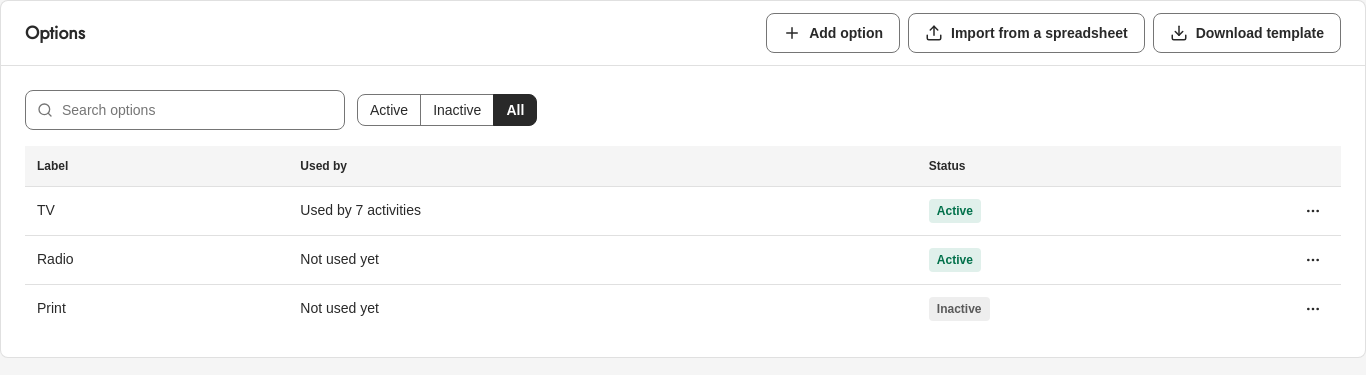
Test: OptionsCard (FR-018, FR-020, SC-007) › filters by status and clears the filters when nothing matches
Expected: the column heading "TV" is shown, [25,186,288,235]
Click the button "Inactive": x=457, y=110 [420,94,494,126]
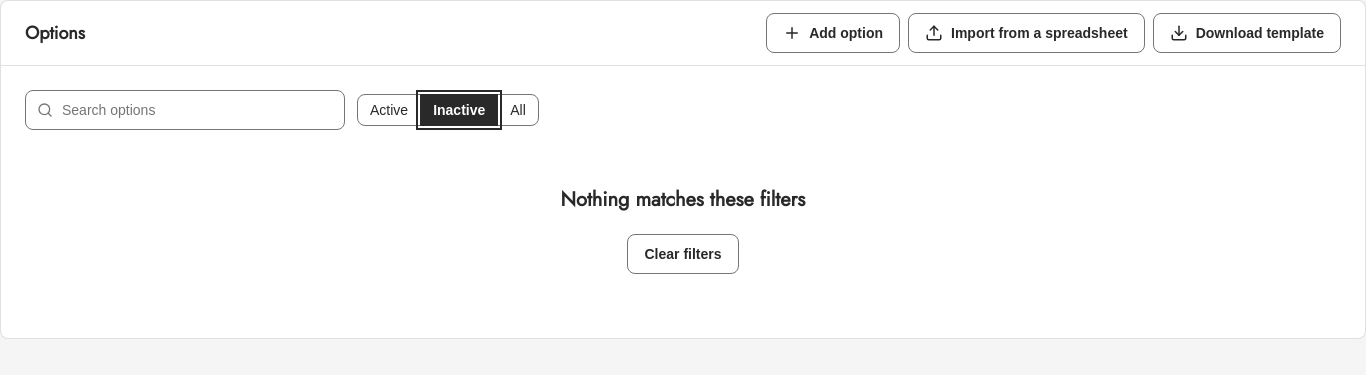
Click the button "Clear filters": x=683, y=254 [628,234,738,274]
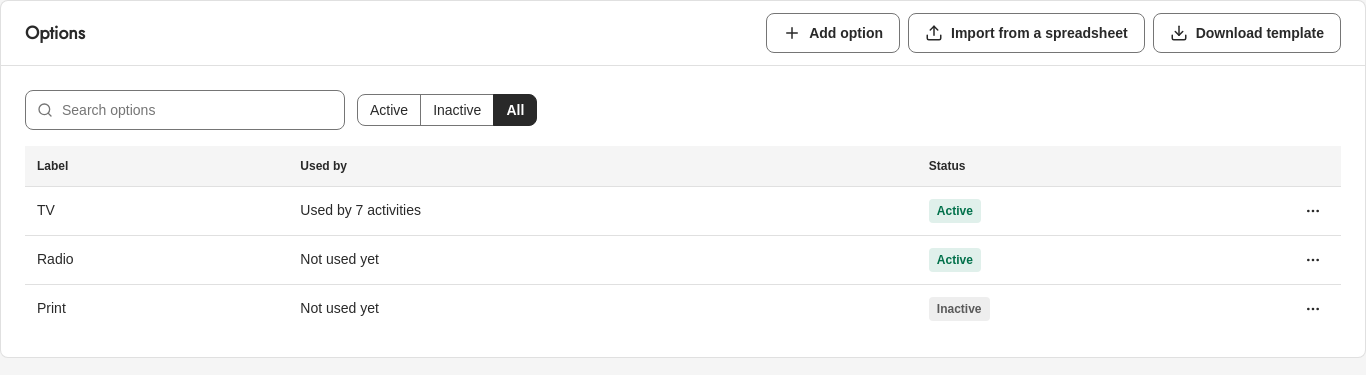
Expected: the column heading "Radio" is shown, [25,235,288,284]
